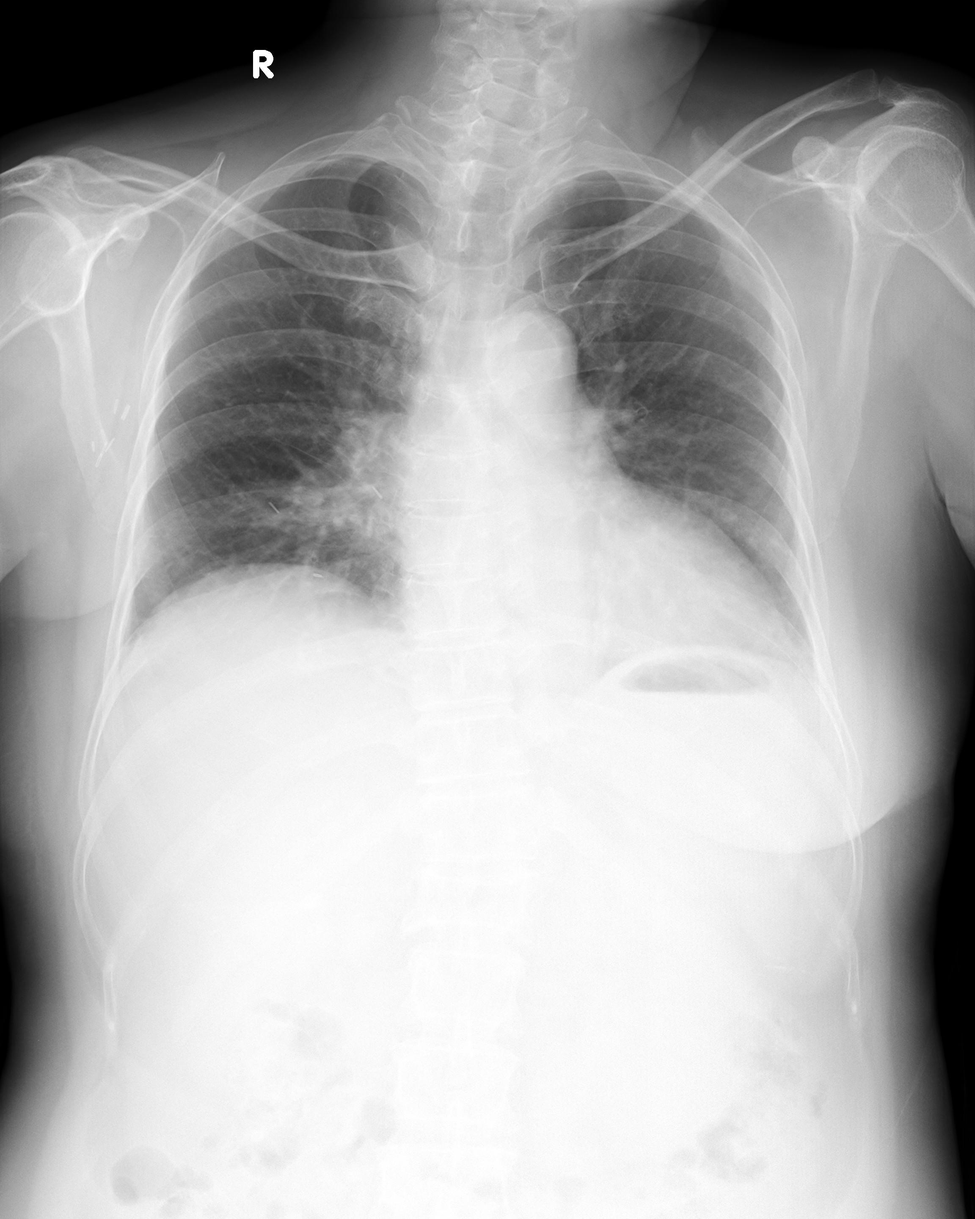Aortic enlargement: (479, 311, 576, 414)
Cardiomegaly: (392, 528, 792, 680)
